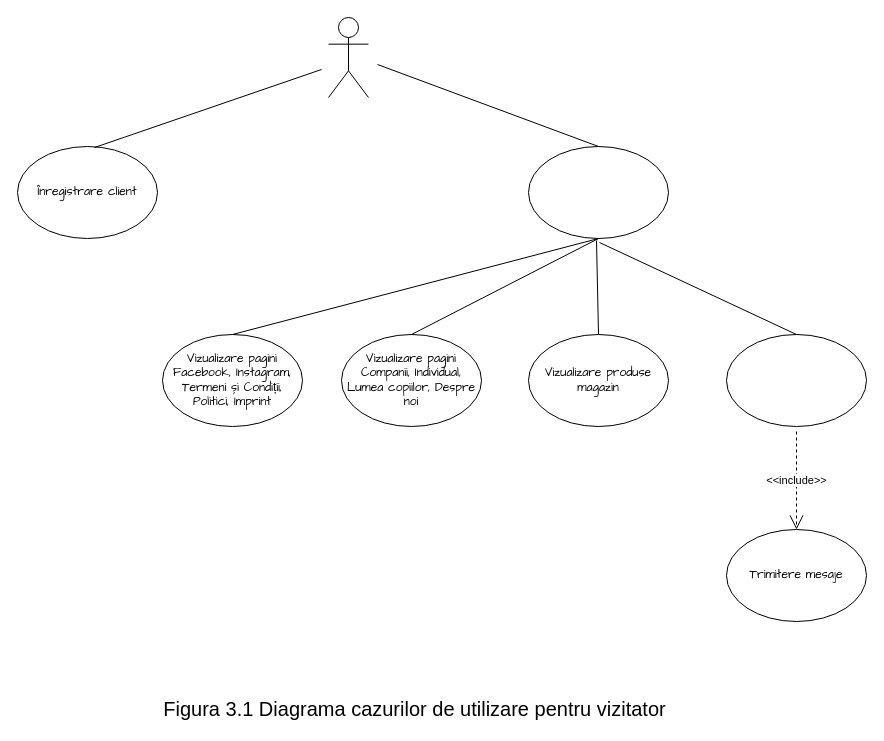
This 884x741 diagram has some shape labels left out. The shapes that lost their labels are listed below. From the top down, each one's centre as x and y in pixels, then its label:
point (348, 57): Vizitator
point (598, 192): Vizualizare pagină principală
point (796, 380): Vizualizare pagină Contact
